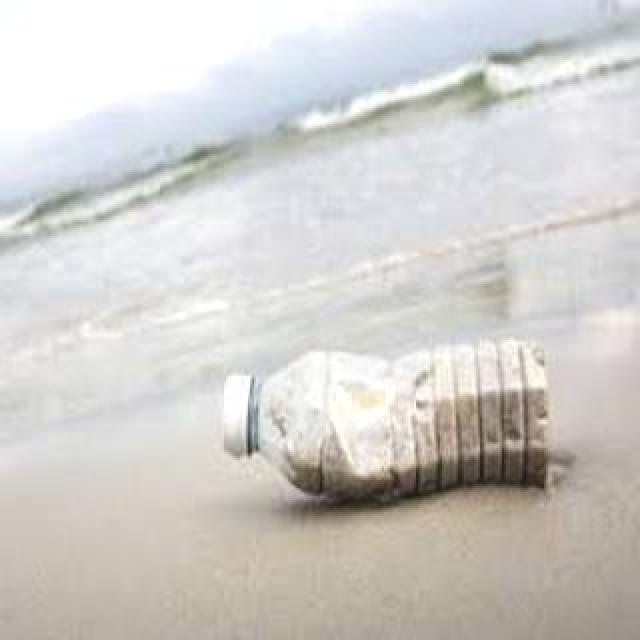Pet_Bottle: (218, 333, 550, 505)
